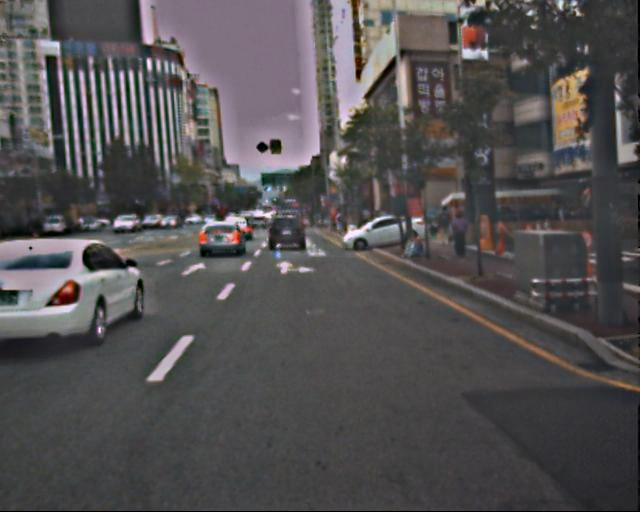person: (450, 212, 471, 262), (436, 204, 453, 246)
